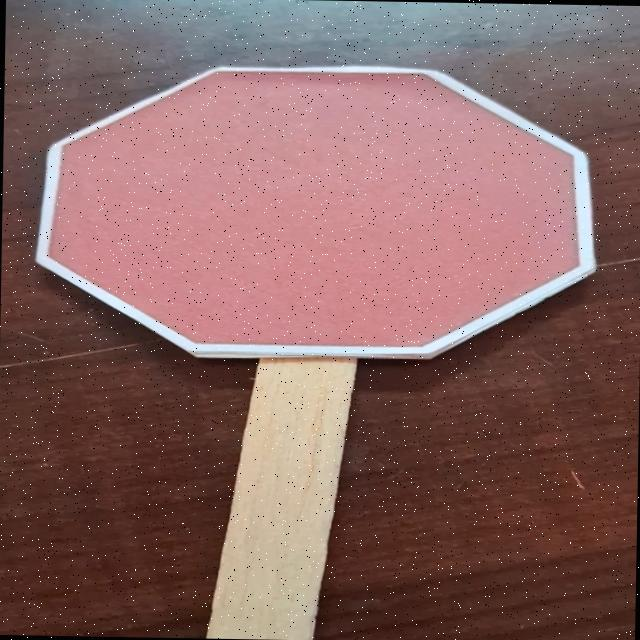Stop: (17, 48, 614, 378)
